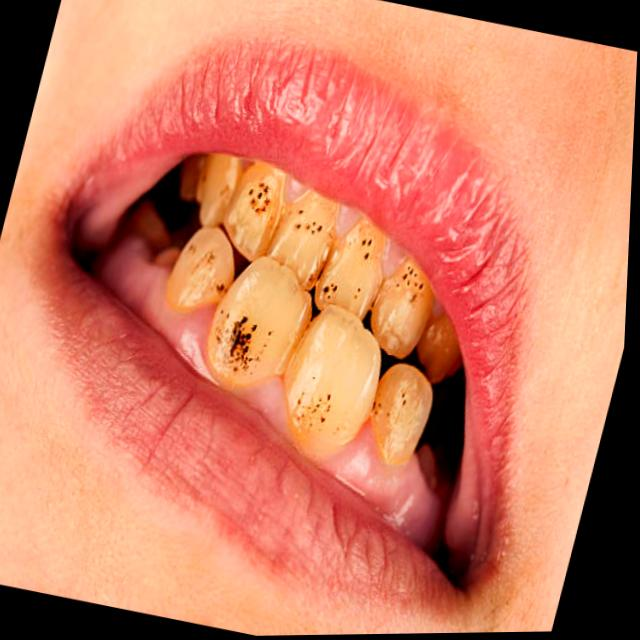tooth-discoloration: (207, 258, 311, 388), (371, 364, 432, 466), (166, 228, 235, 310)
